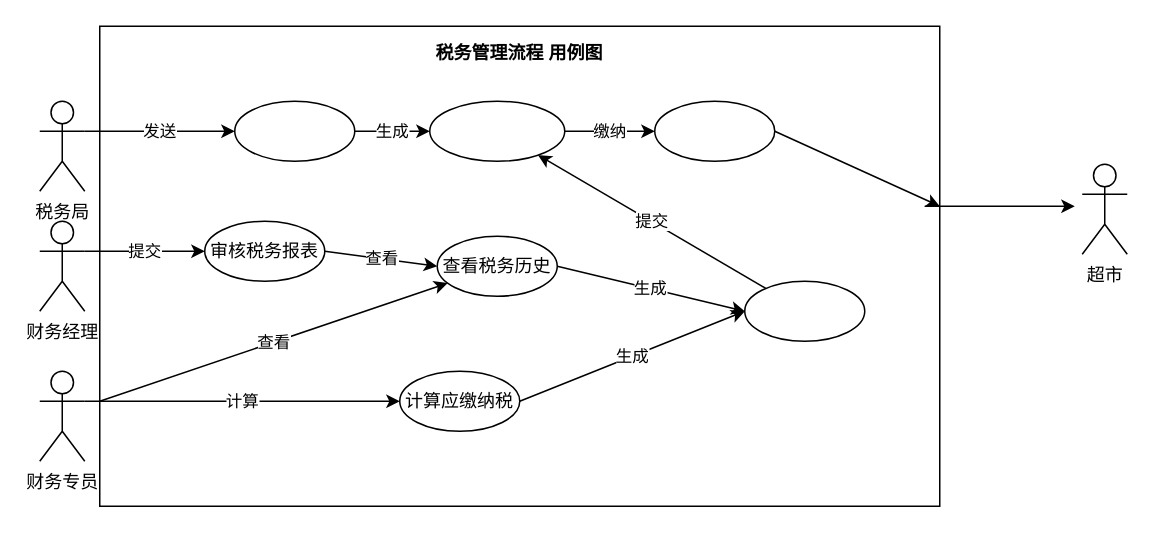
Image size: 1154x533. Some labels were removed from this diagram. The shapes that lost their labels are listed below. From the top down, each one's box as (x1, y1, x2, y2) in pixels, then its label:
(233, 100, 355, 161): 接收税务通知
(428, 100, 565, 161): 提交税务申报
(653, 100, 775, 161): 缴纳税款
(743, 280, 865, 341): 生成税务报表
